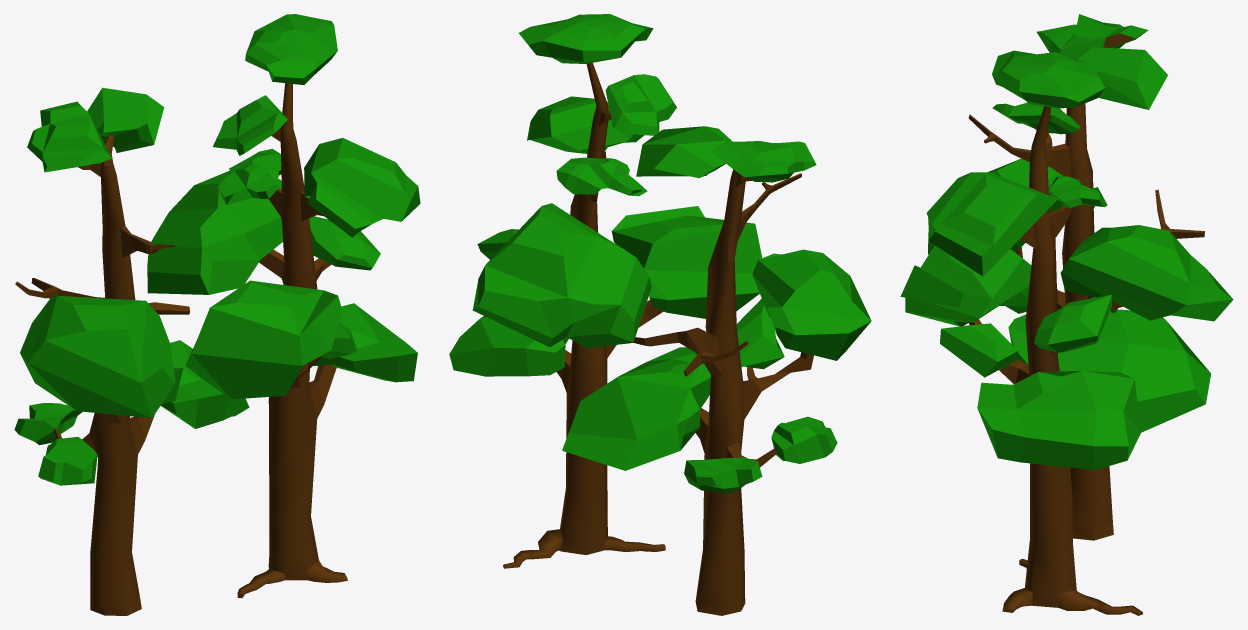
Rendered from baum_d001.FBX.
3 renders of one model, left to right at view 1: azimuth 30°, elevation 25°; view 2: azimuth 150°, elevation 25°; view 3: azimuth 270°, elevation 25°, orthographic. The views are drawn at different scales.
Visible parts, largest first — view 1: Baum_D001; view 2: Baum_D001; view 3: Baum_D001.
Part boxes in pixels (x1=…): Baum_D001: x1=14, y1=14, x2=420, y2=615; Baum_D001: x1=449, y1=14, x2=871, y2=615; Baum_D001: x1=900, y1=14, x2=1233, y2=615.
Size of the model in its own units: 47.43 by 64.15 by 35.63.
